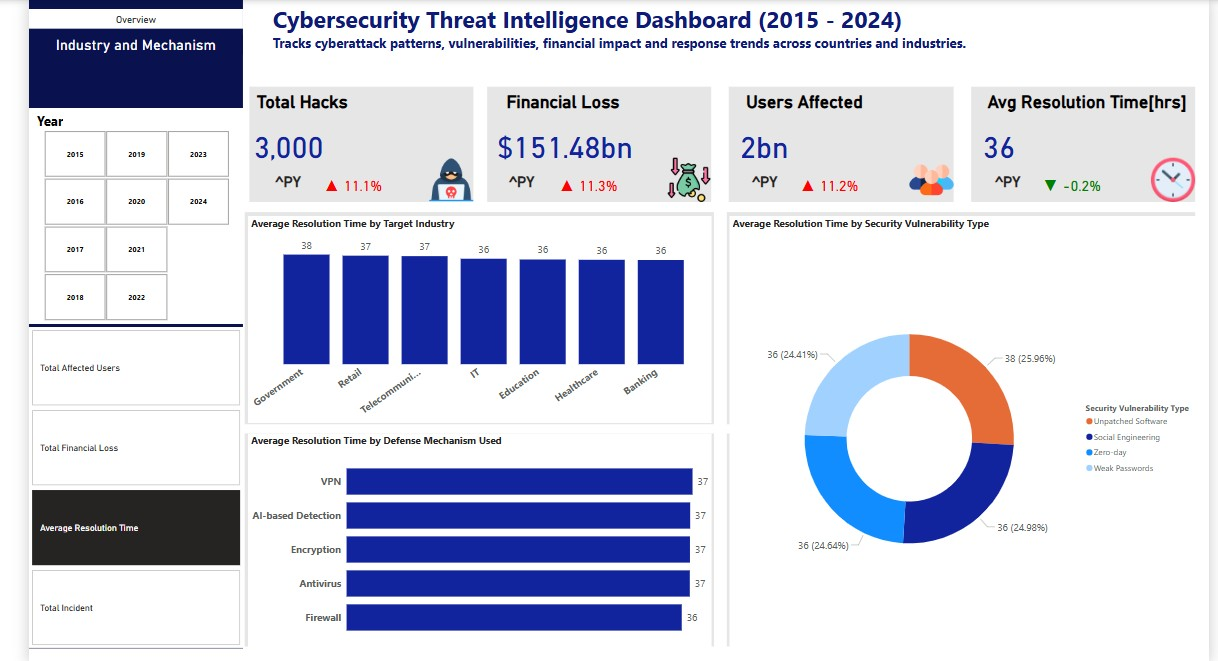

Layout of this report page (visuals, bound fields, positions):
{"tool":"powerbi","page":{"name":"Industry and Mechanism","canvas":[1920,1080],"ordinal":1},"visuals":[{"type":"shape","box":[0,0,348.2,1055],"z":0},{"type":"cardVisual","title":"Total Hacks","fields":{"Data":["DAX.Count"]},"box":[348.2,143.9,379.5,183.5],"z":1000},{"type":"cardVisual","title":"Total Hacks","fields":{"Data":["DAX.Total Financial Loss"]},"box":[743.3,143.6,365.4,183.9],"z":2000},{"type":"cardVisual","title":"Total Hacks","fields":{"Data":["DAX.Total Affected Users"]},"box":[1138.9,143.6,365.4,183.9],"z":3000},{"type":"cardVisual","title":"Total Hacks","fields":{"Data":["DAX.Average Resolution Time"]},"box":[1534.5,143.6,365.4,183.9],"z":4000},{"type":"textbox","box":[355.3,143.6,176.4,47.9],"z":5000},{"type":"textbox","box":[750.9,143.6,234.3,47.9],"z":6000},{"type":"textbox","box":[1146.5,143.6,229.3,47.9],"z":7000},{"type":"card","fields":{"Values":["DAX.Count YoY"]},"box":[460.5,275.2,135.7,52.1],"z":8000,"group":"g1"},{"type":"textbox","box":[1542,143.6,357.8,47.9],"z":8000},{"type":"card","fields":{"Values":["DAX.Financial Loss YoY"]},"box":[834,275.2,150.1,52.1],"z":9000},{"type":"textbox","box":[354.4,275.2,135.7,52.1],"z":9001,"group":"g1"},{"type":"card","fields":{"Values":["DAX.Affected Users YoY"]},"box":[1228,275.2,148,52.1],"z":10000},{"type":"card","fields":{"Values":["DAX.Resolution time YoY"]},"box":[1624.2,275.2,141.8,52.1],"z":11000},{"type":"slicer","fields":{"Values":["Calendar.Year"]},"box":[0,207.4,348.9,192.7],"z":12000},{"type":"textbox","box":[744.3,275.2,114.7,52.1],"z":13000},{"type":"textbox","box":[1138.4,275.2,114.7,52.1],"z":14000},{"type":"textbox","box":[1534.5,275.2,114.7,52.1],"z":15000},{"type":"group","id":"g1","title":"Group 1","box":[354.4,275.2,241.9,52.1],"z":16000},{"type":"pageNavigator","box":[0,14.6,348.9,75.6],"z":19000},{"type":"textbox","box":[351.3,0,1217.5,107.4],"z":21000},{"type":"barChart","box":[402.6,351.3,466,300.1],"z":22000},{"type":"advancedSlicerVisual","fields":{"Values":["Parameter 2 2.Parameter 2"]},"box":[0,578.2,348.9,456.2],"z":22001}]}

Visuals, with their boxes on the page's 1920x1080 design canvas (x1, y1, x2, y2). These are canvas units, not pixel positions in the 1218x661 screenshot, which may show the page scaled, cropped or inside an application window:
shape: select_region(0, 0, 348, 1055)
"Total Hacks" cardVisual: select_region(348, 144, 728, 327)
"Total Hacks" cardVisual: select_region(743, 144, 1109, 328)
"Total Hacks" cardVisual: select_region(1139, 144, 1504, 328)
"Total Hacks" cardVisual: select_region(1534, 144, 1900, 328)
textbox: select_region(355, 144, 532, 192)
textbox: select_region(751, 144, 985, 192)
textbox: select_region(1146, 144, 1376, 192)
card - DAX.Count YoY: select_region(460, 275, 596, 327)
textbox: select_region(1542, 144, 1900, 192)
card - DAX.Financial Loss YoY: select_region(834, 275, 984, 327)
textbox: select_region(354, 275, 490, 327)
card - DAX.Affected Users YoY: select_region(1228, 275, 1376, 327)
card - DAX.Resolution time YoY: select_region(1624, 275, 1766, 327)
slicer - Calendar.Year: select_region(0, 207, 349, 400)
textbox: select_region(744, 275, 859, 327)
textbox: select_region(1138, 275, 1253, 327)
textbox: select_region(1534, 275, 1649, 327)
"Group 1" group: select_region(354, 275, 596, 327)
pageNavigator: select_region(0, 15, 349, 90)
textbox: select_region(351, 0, 1569, 107)
barChart: select_region(403, 351, 869, 651)
advancedSlicerVisual - Parameter 2 2.Parameter 2: select_region(0, 578, 349, 1034)
